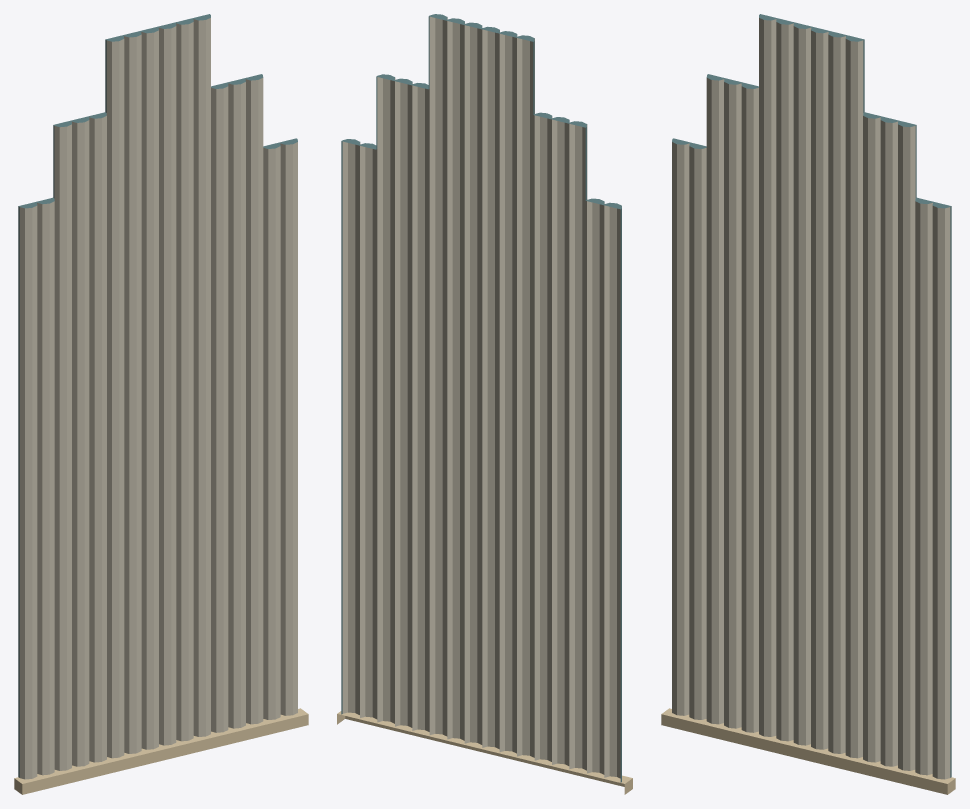
Rendered from KC32__AD_Arc_Curtain_Tower.glb.
The picture shows the model from 3 angles, left to right: view 1: azimuth 30°, elevation 25°; view 2: azimuth 150°, elevation 25°; view 3: azimuth 330°, elevation 25°; orthographic projection.
Visible parts, largest first — view 1: KC32_LUMIERE__AD_Arc_Curtain_Tower, KC32_BRONZE__AD_Arc_Curtain_Tower, KC32_CORPS__AD_Arc_Curtain_Tower; view 2: KC32_LUMIERE__AD_Arc_Curtain_Tower, KC32_CORPS__AD_Arc_Curtain_Tower, KC32_BRONZE__AD_Arc_Curtain_Tower; view 3: KC32_LUMIERE__AD_Arc_Curtain_Tower, KC32_BRONZE__AD_Arc_Curtain_Tower, KC32_CORPS__AD_Arc_Curtain_Tower.
Part boxes in pixels (bbox=[...]): KC32_LUMIERE__AD_Arc_Curtain_Tower: bbox=[19, 18, 297, 779]; KC32_BRONZE__AD_Arc_Curtain_Tower: bbox=[14, 708, 308, 794]; KC32_CORPS__AD_Arc_Curtain_Tower: bbox=[18, 14, 297, 777]; KC32_LUMIERE__AD_Arc_Curtain_Tower: bbox=[342, 16, 620, 778]; KC32_CORPS__AD_Arc_Curtain_Tower: bbox=[341, 14, 621, 782]; KC32_BRONZE__AD_Arc_Curtain_Tower: bbox=[337, 711, 632, 794]; KC32_LUMIERE__AD_Arc_Curtain_Tower: bbox=[672, 18, 950, 779]; KC32_BRONZE__AD_Arc_Curtain_Tower: bbox=[661, 708, 955, 794]; KC32_CORPS__AD_Arc_Curtain_Tower: bbox=[672, 14, 951, 777].
Bounding box in the file's own units: 4.12 × 10 × 0.2.
